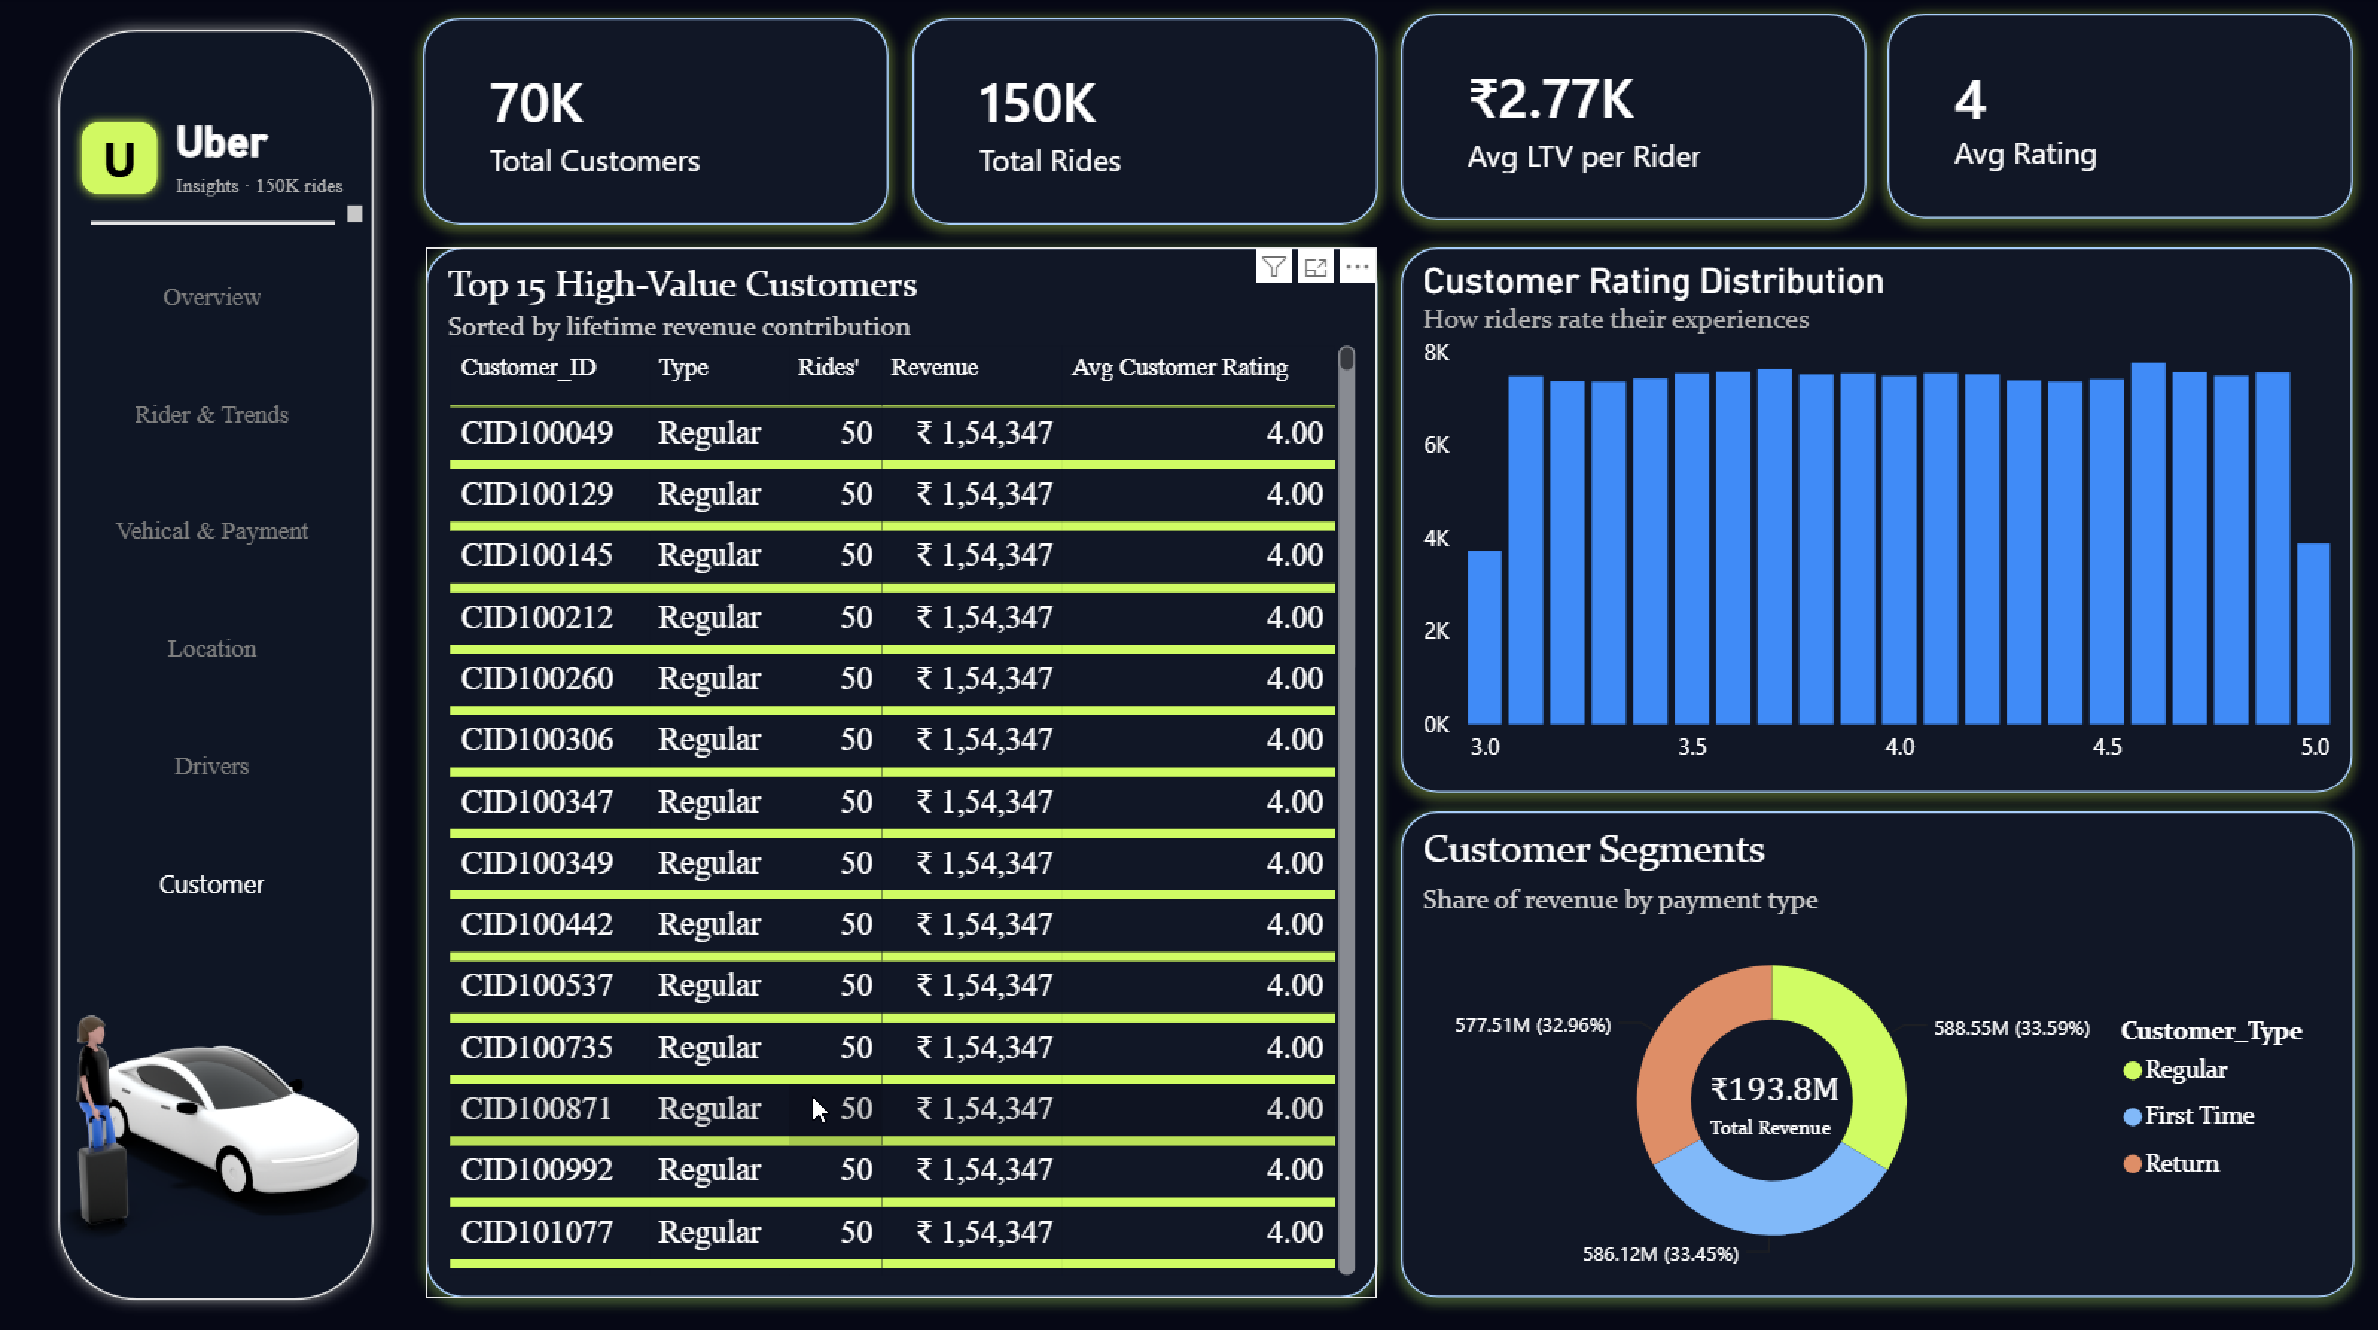

The dashboard page shown, as its layout file describes it:
{"tool":"powerbi","page":{"name":"Customer","canvas":[1280,720],"ordinal":5},"visuals":[{"type":"pageNavigator","box":[37.3,173.6,130,371.8],"z":0},{"type":"shape","box":[25.7,11.5,185.3,697.8],"z":5000},{"type":"shape","box":[40.4,63,51.6,49.6],"z":6000},{"type":"textbox","title":"Uber","box":[92.2,66.5,110,61.2],"z":7000},{"type":"pageNavigator","box":[51.3,135.7,130.2,372.3],"z":8000},{"type":"shape","box":[51.3,112.4,131.2,20.4],"z":9000},{"type":"image","box":[13,498,218,202],"z":21000},{"type":"cardVisual","fields":{"Data":["Measure.Total Rides"]},"box":[492.1,12.4,250,110.8],"z":21001},{"type":"cardVisual","fields":{"Data":["Measure.Total Customers"]},"box":[229.7,12.4,250,110.8],"z":21002},{"type":"cardVisual","fields":{"Data":["Booking_Transactions.Avg LTV per Rider"]},"box":[754.6,10.6,250,110.8],"z":21003},{"type":"cardVisual","fields":{"Data":["Measure.Avg Rating"]},"box":[1015.7,10.4,250.1,110.3],"z":21004},{"type":"clusteredColumnChart","title":"Customer Rating Distribution","fields":{"Y":["Measure.Total Rides"],"Category":["Booking_Transactions.Customer_Rating"]},"box":[754.4,135.8,511.4,293.3],"z":21005},{"type":"tableEx","title":"Top 15 High-Value Customers","fields":{"Values":["Customers.Customer_ID","Customers.Type","Customers.Rides'","Drivers.Revenue","Measure.Avg Customer Rating"]},"box":[230.9,135.8,510.6,564.2],"z":21006},{"type":"donutChart","title":"Customer Segments","fields":{"Category":["Customers.Customer_Type"],"Y":["Sum(Customers.Total_Revenue)"]},"box":[754.5,438.8,511.6,261.1],"z":21007},{"type":"cardVisual","fields":{"Data":["Measure.Total Revenue (Cr)"]},"box":[901.1,544.7,130.6,106],"z":21009}]}

Visuals, with their boxes in screenshot pixels (x1, y1, x2, y2), scaled from the page's 1280x720 canvas onto the 2378x1330 screenshot:
pageNavigator: locate(69, 321, 311, 1007)
shape: locate(48, 21, 392, 1310)
shape: locate(75, 116, 171, 208)
"Uber" textbox: locate(171, 123, 376, 236)
pageNavigator: locate(95, 251, 337, 938)
shape: locate(95, 208, 339, 245)
image: locate(24, 920, 429, 1293)
cardVisual - Measure.Total Rides: locate(914, 23, 1379, 228)
cardVisual - Measure.Total Customers: locate(427, 23, 891, 228)
cardVisual - Booking_Transactions.Avg LTV per Rider: locate(1402, 20, 1866, 224)
cardVisual - Measure.Avg Rating: locate(1887, 19, 2352, 223)
"Customer Rating Distribution" clusteredColumnChart: locate(1402, 251, 2352, 793)
"Top 15 High-Value Customers" tableEx: locate(429, 251, 1378, 1293)
"Customer Segments" donutChart: locate(1402, 811, 2352, 1293)
cardVisual - Measure.Total Revenue (Cr): locate(1674, 1006, 1917, 1202)
